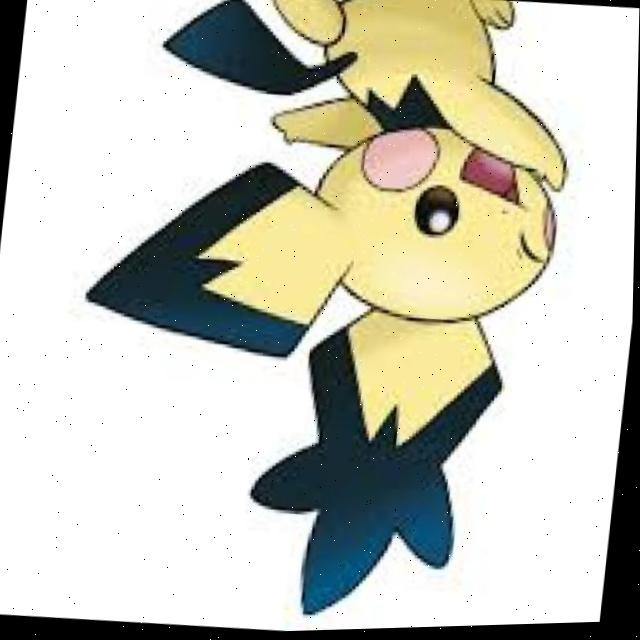pichu: (54, 0, 581, 633)
